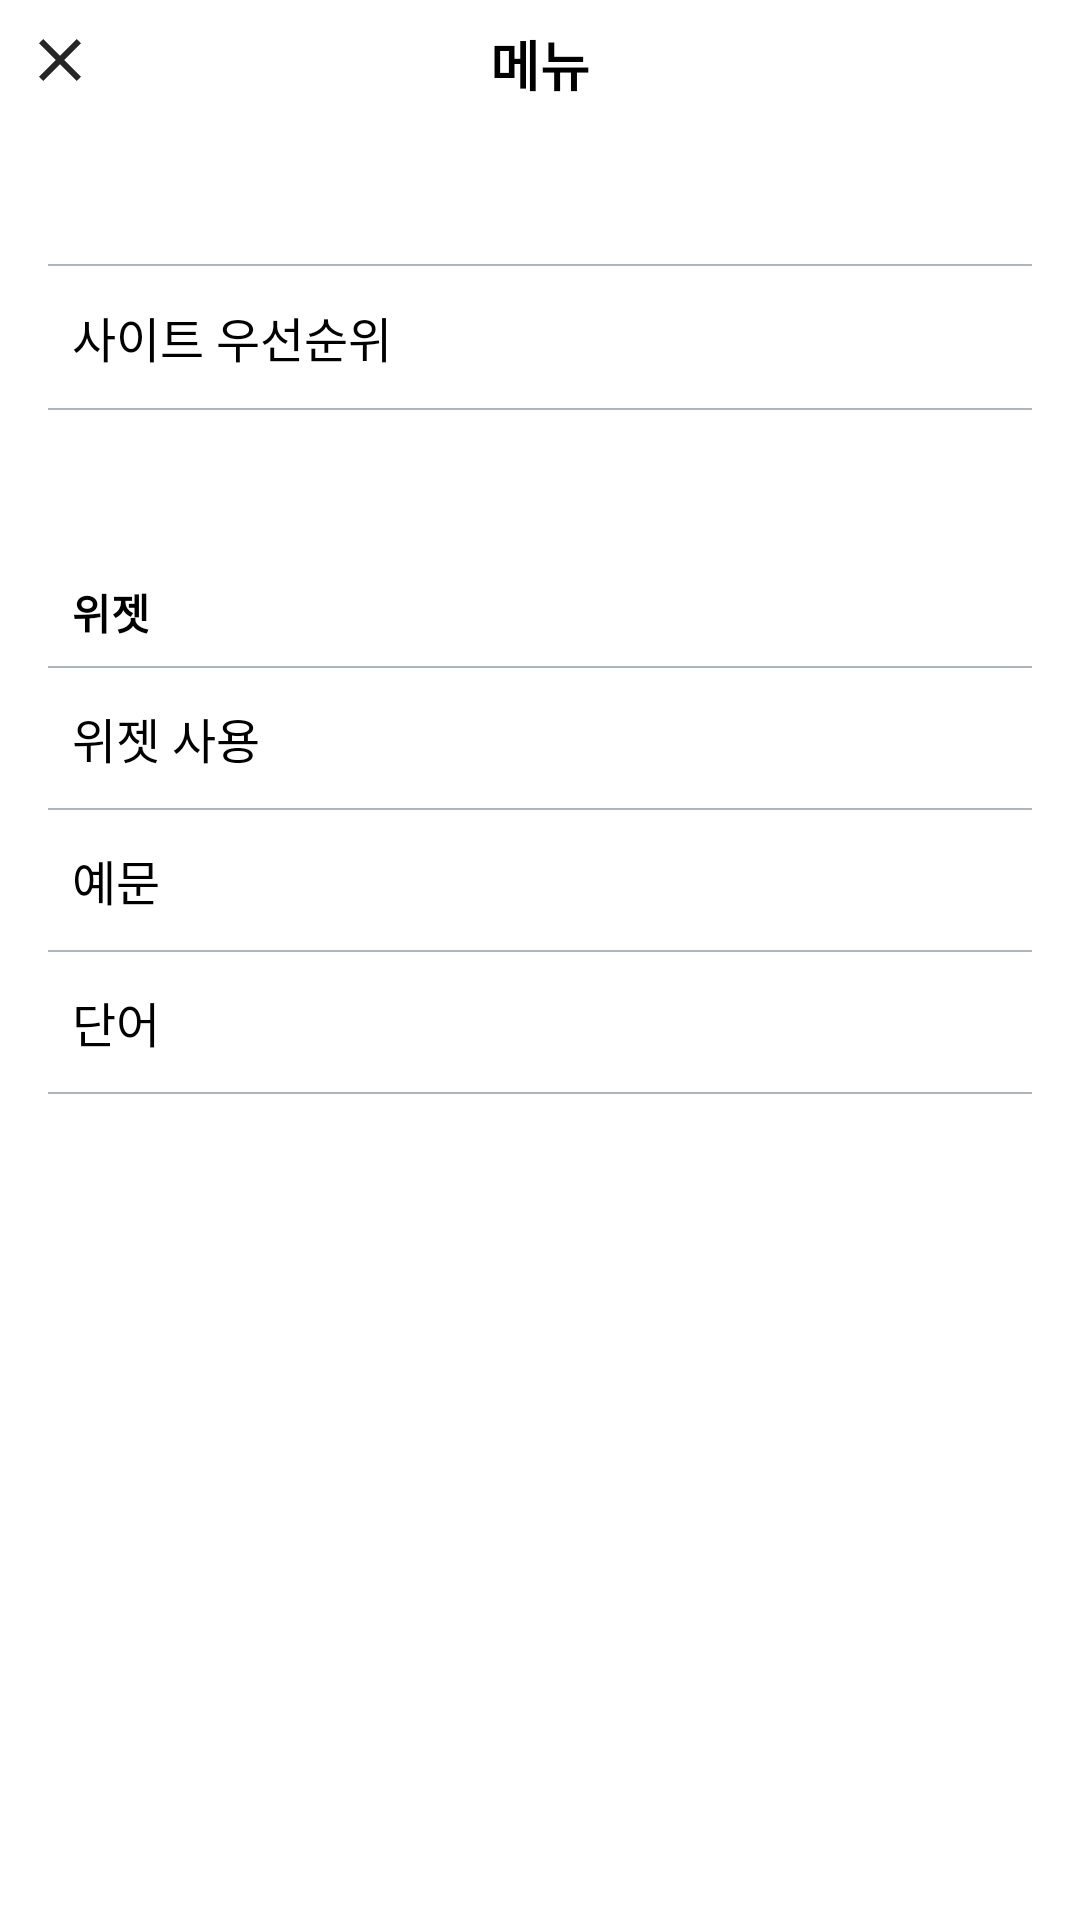

Icons on this 1080 x 1920 Android screen, each with its box as (x1=x1, y1=y1, x2=x2, y2=y2):
close: (x1=39, y1=39, x2=81, y2=81)
